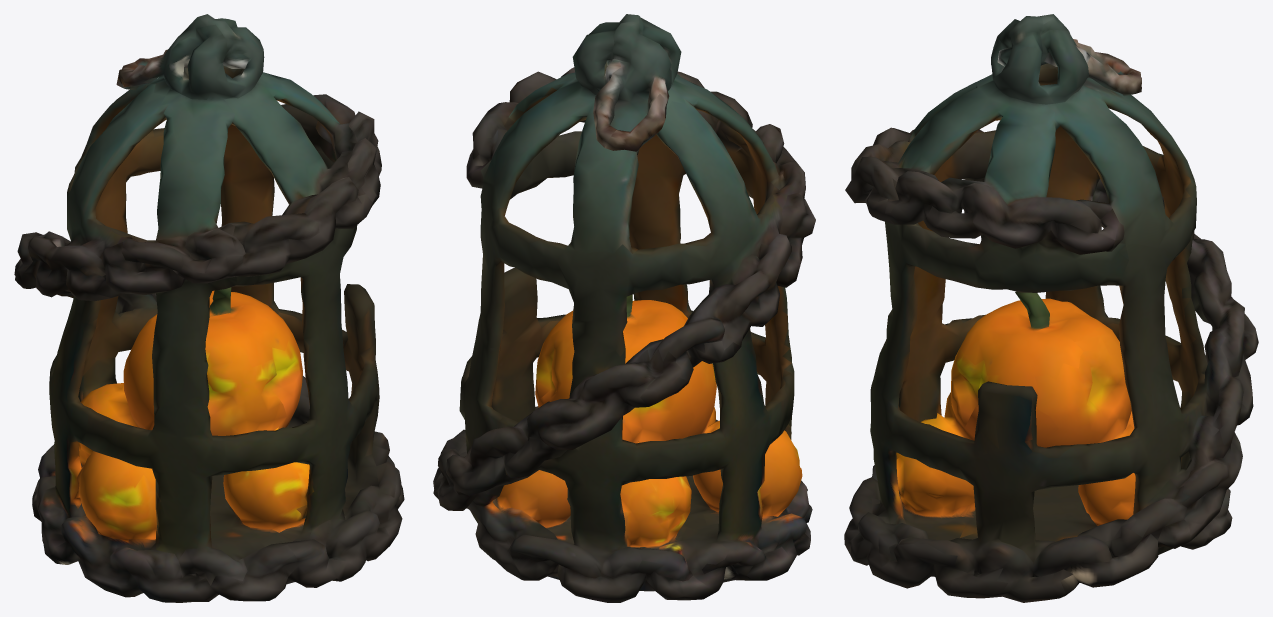
File: halloween-lantern.glb
The picture shows the model from 3 angles, left to right: view 1: azimuth 30°, elevation 25°; view 2: azimuth 150°, elevation 25°; view 3: azimuth 270°, elevation 25°; orthographic projection. The views are drawn at different scales.
Parts seen in each view (by area): view 1: geometry_0; view 2: geometry_0; view 3: geometry_0.
Boxes of the visible parts, box(x1,y1,x2,y2) form: geometry_0: box(14, 14, 404, 602); geometry_0: box(433, 14, 815, 602); geometry_0: box(844, 14, 1258, 602).
Size of the model in its own units: 1.2 by 1.82 by 1.28.
Materials: 1 (1 with a texture image).
